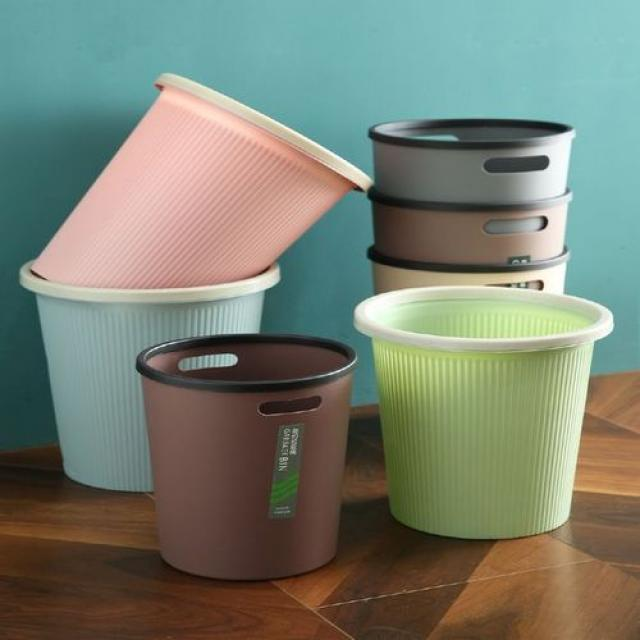Dustbin: (25, 65, 374, 292), (348, 280, 618, 544), (17, 254, 286, 495), (135, 329, 361, 588), (365, 112, 579, 300)
